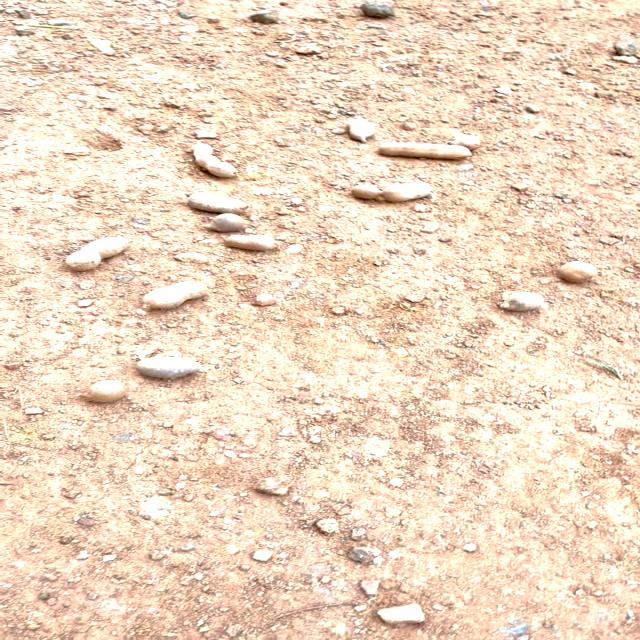tamarind: (374, 138, 485, 168), (64, 235, 131, 273), (140, 279, 210, 312), (350, 180, 440, 204), (190, 142, 242, 180), (77, 379, 133, 406), (187, 194, 249, 213), (555, 259, 600, 285), (223, 234, 278, 254), (197, 214, 250, 234), (342, 116, 378, 144)
